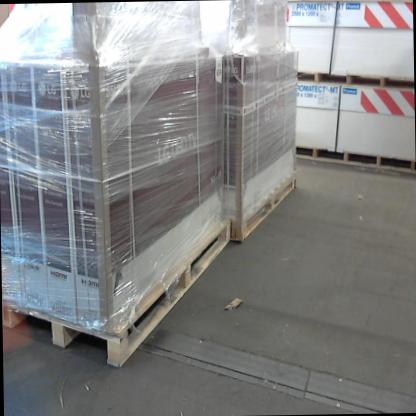pallet: (0, 213, 232, 370), (226, 169, 298, 241)
